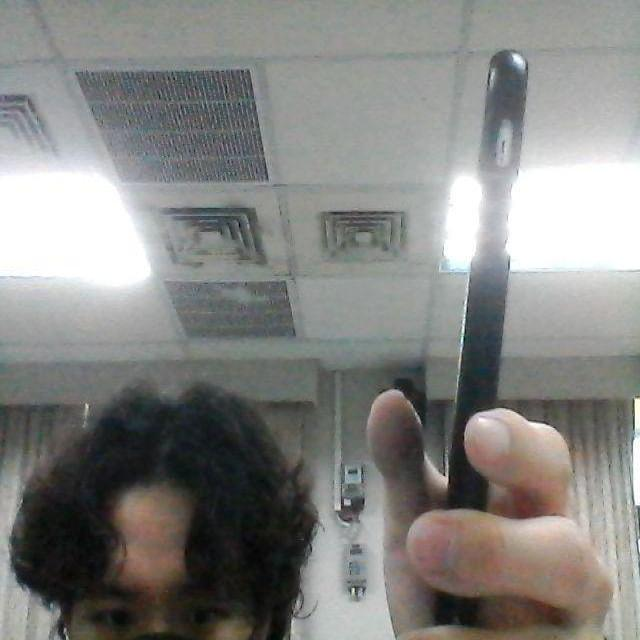mobile: (443, 43, 540, 544)
